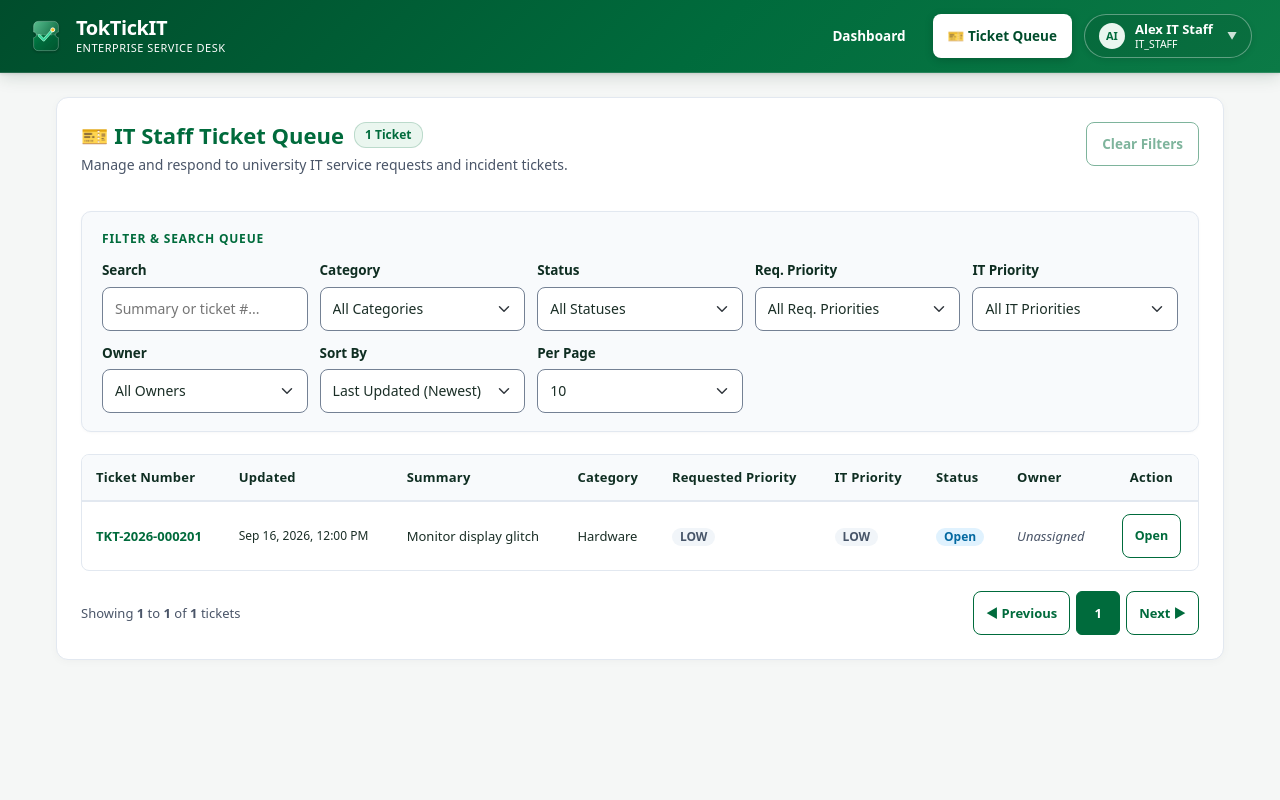
Role Navigation & Queue State Preservation Integration › preserves lifted filter criteria when navigating to ticket detail placeholder and back
Check: the text "TKT-2026-000201" is shown, box [96,527,202,545]
// Change status filter to "OPEN"
Select "Open" in the dropdown named "filter by status" at coordinates (640, 309), box [537,287,743,331]
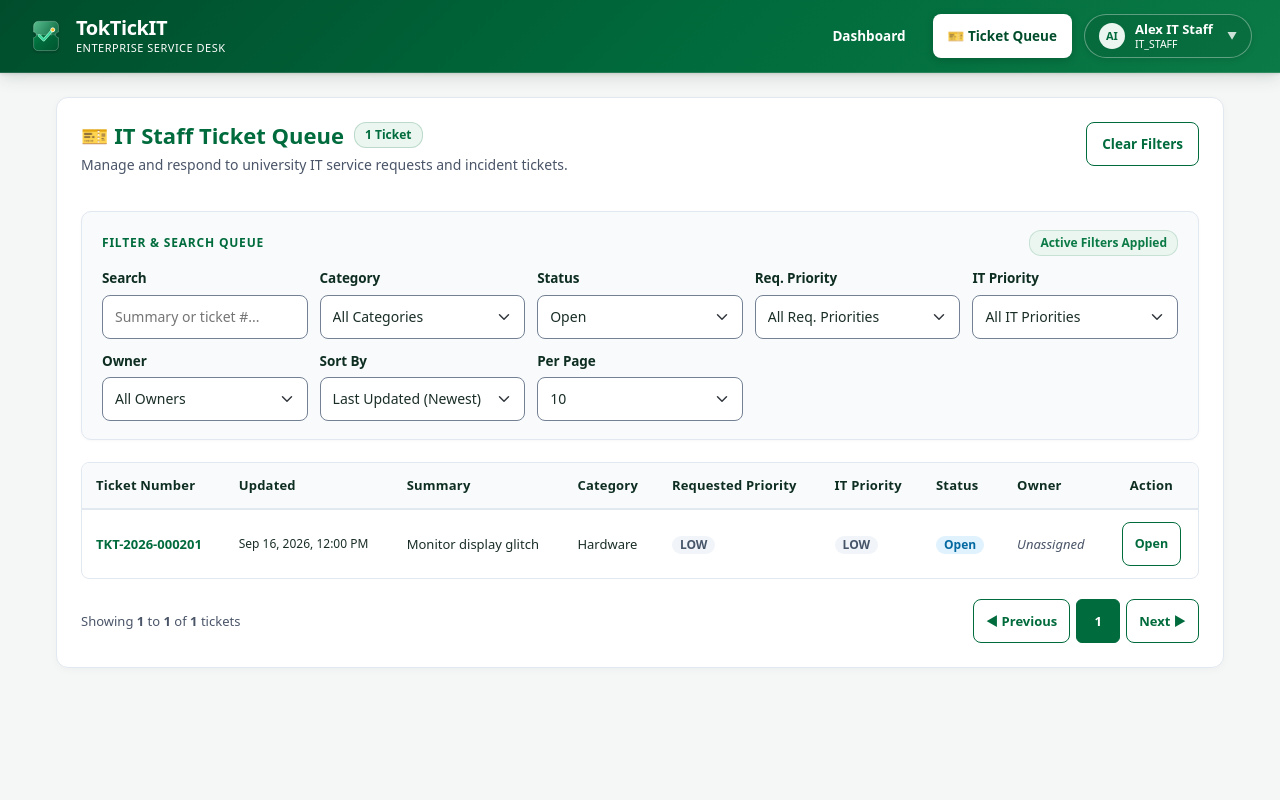
// Click "Open" action on ticket #201
Click the button "Open" at coordinates (1151, 544), box [1122,522,1181,566]
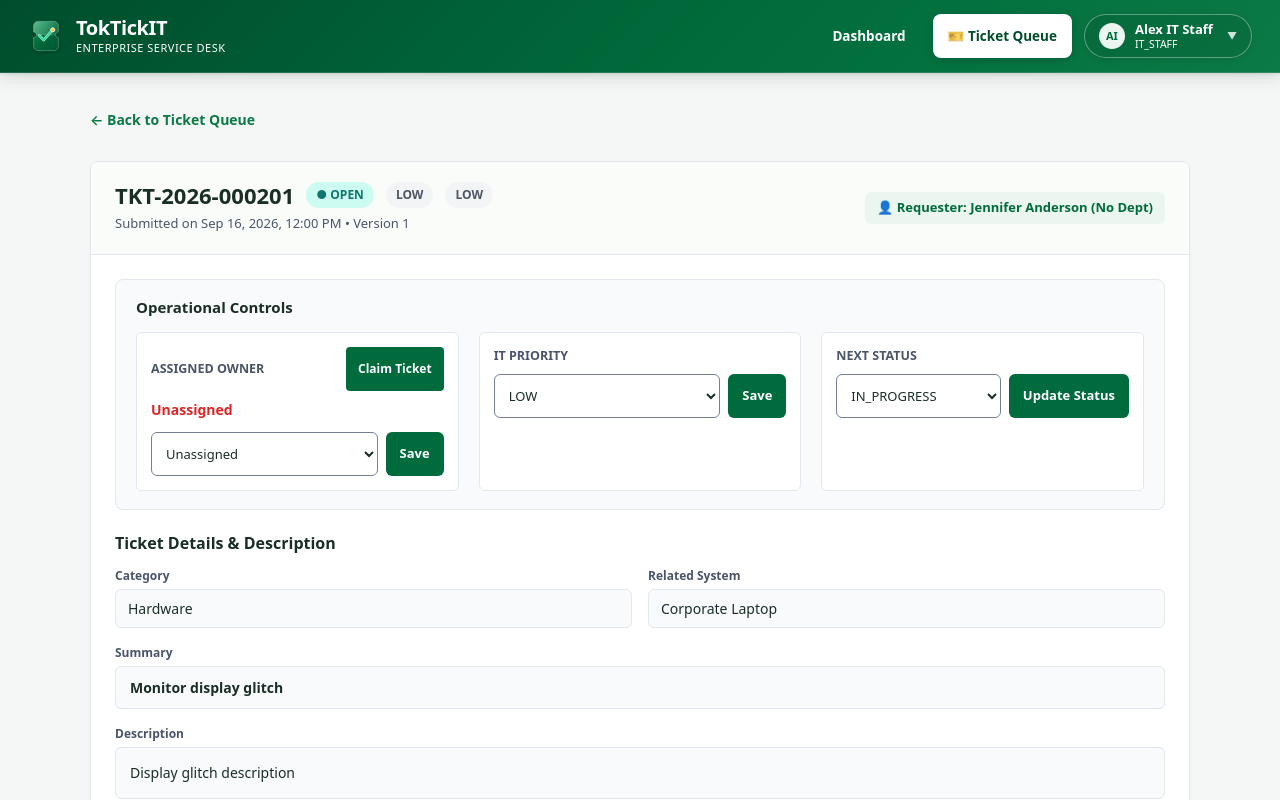
Check: the heading with test id "staff-ticket-number-heading" reads "TKT-2026-000201", box [115,180,294,210]
// Click "← Back to Ticket Queue"
Click the button "← Back to Ticket Queue" at coordinates (173, 119), box [90,97,255,141]
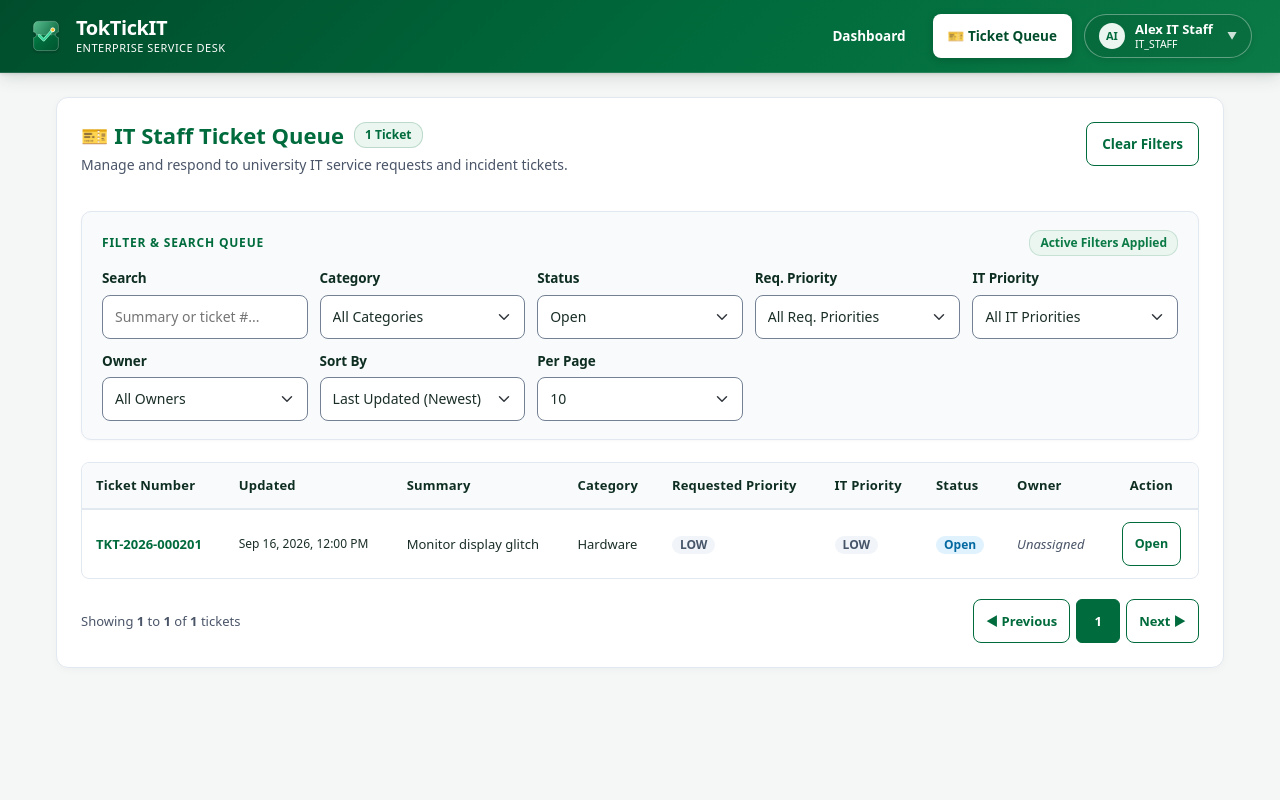
Check: the heading "🎫 IT Staff Ticket Queue" is shown, box [81,122,344,148]
Check: the dropdown named "filter by status" shows "Open", box [537,295,743,339]
